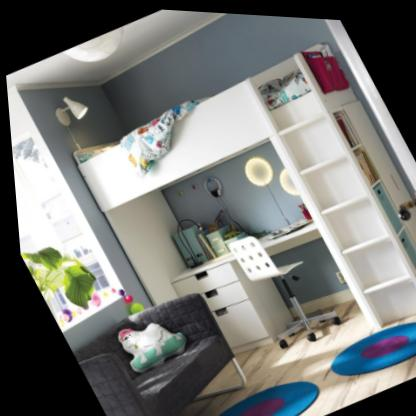Chair: (214, 210, 346, 360)
Sofa: (56, 275, 273, 416)
